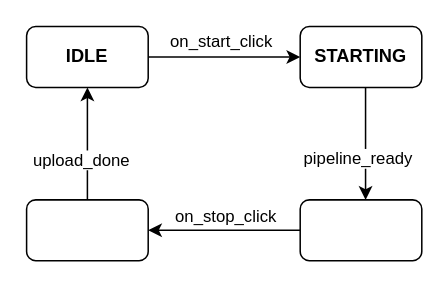
This 448x287 diagram has some shape labels left out. The shapes that lost their labels are listed below. From the top down, each one's box as (x1, y1, x2, y2) in pixels, then its label:
(25, 198, 148, 261): FLUSHING
(299, 198, 422, 261): RECORDING
